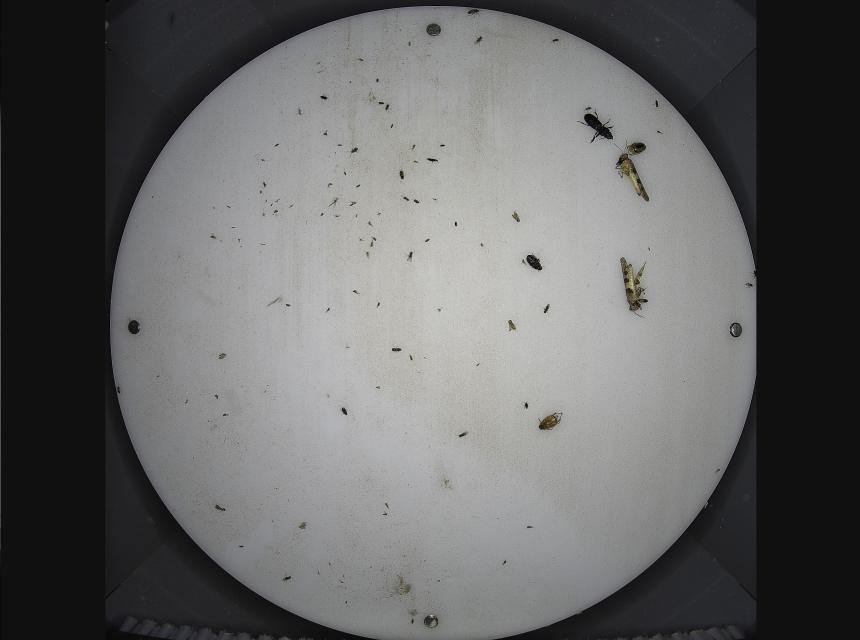Tiny fly: (507, 315, 521, 334), (454, 428, 471, 440), (540, 301, 553, 316), (471, 34, 484, 48), (280, 572, 295, 584), (403, 250, 414, 265), (425, 157, 442, 165), (339, 405, 349, 417), (389, 345, 402, 354), (322, 129, 329, 137), (349, 201, 357, 205)
beetle: (575, 105, 616, 145), (524, 252, 549, 275)
insect: (535, 409, 565, 434), (624, 140, 649, 158)
locust: (610, 136, 654, 207), (619, 252, 651, 322)
